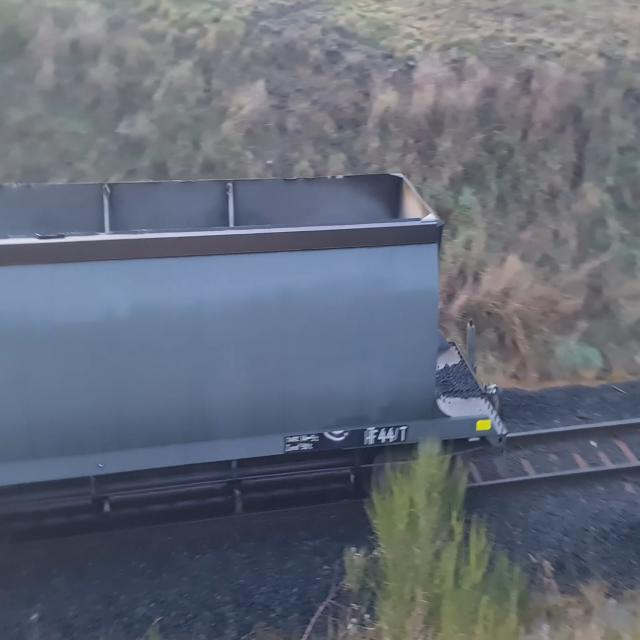hopper: (0, 152, 514, 546)
